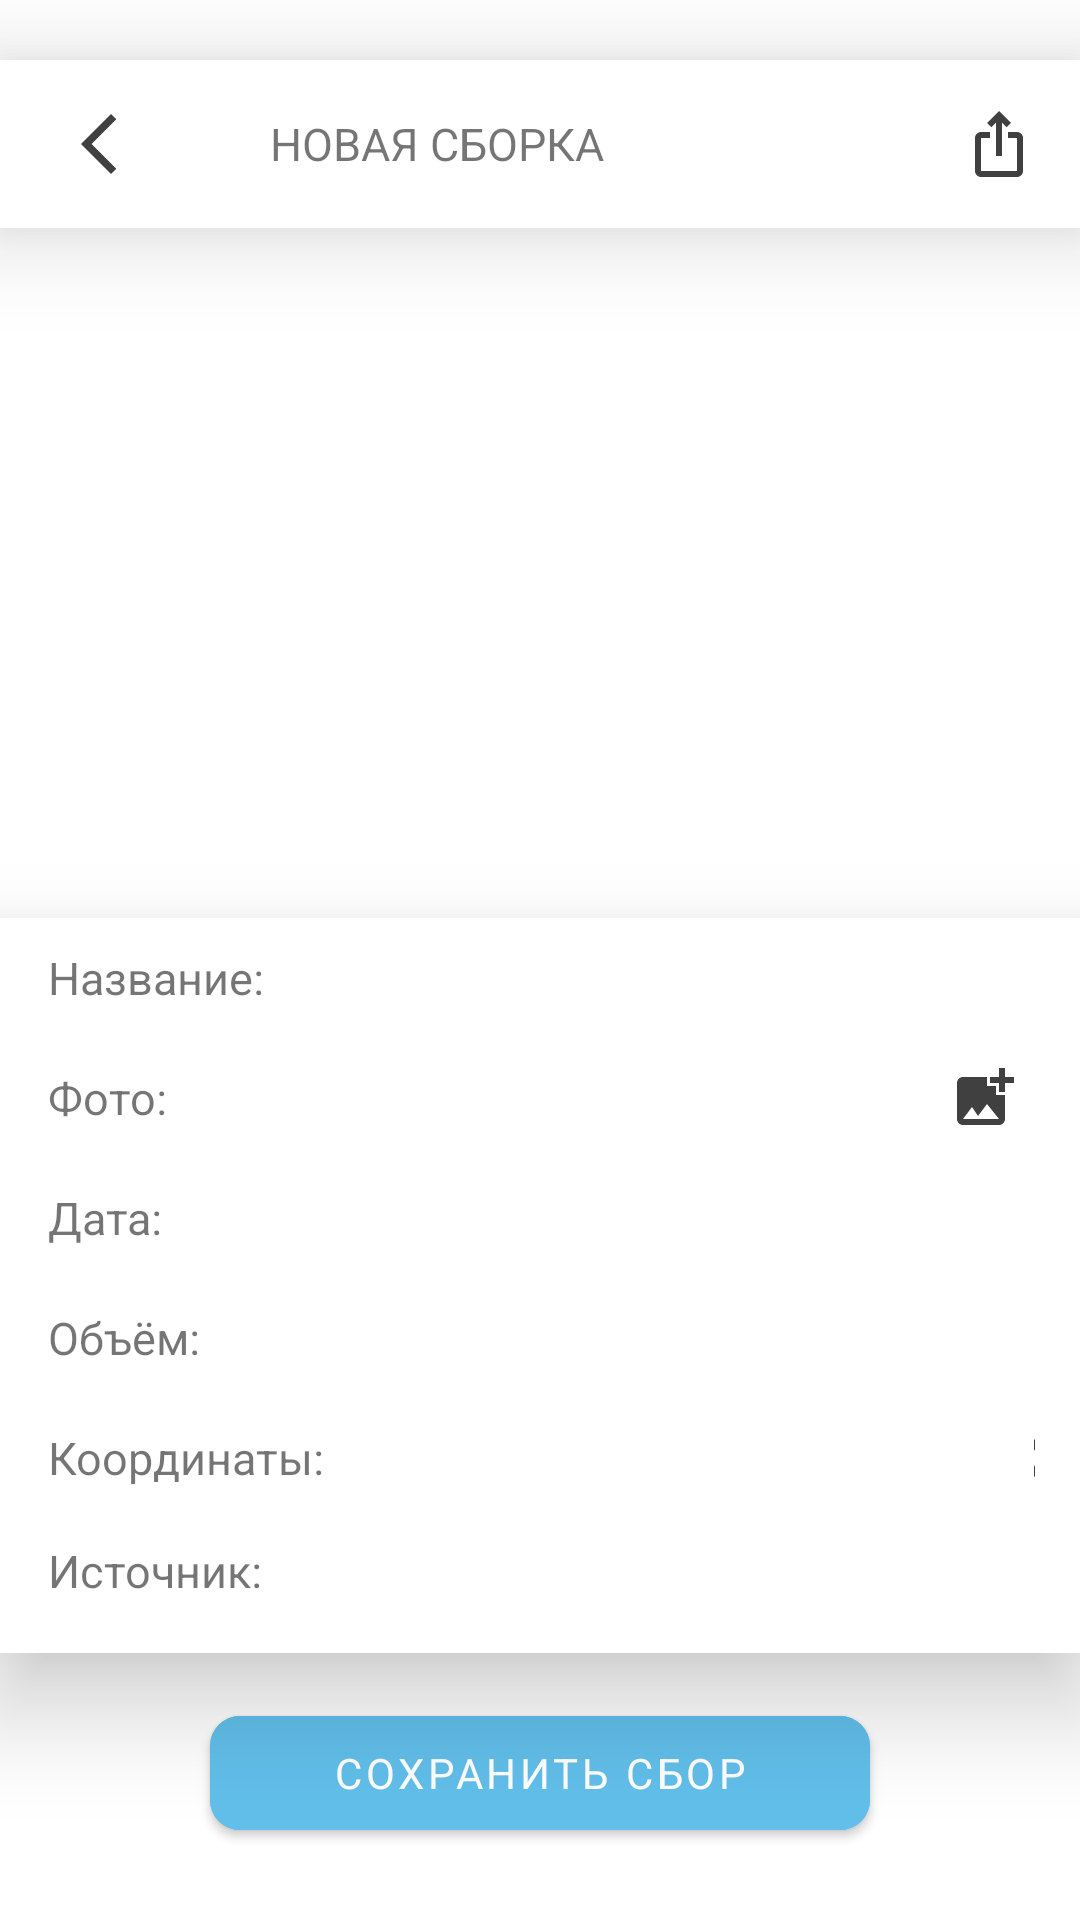

Icon bounding boxes for this 1080*1920 phone screenshot, format (x1, y1, x2, y2):
back arrow: (81, 114, 116, 174)
galery: (957, 1068, 1014, 1125)
share: (975, 111, 1023, 177)
